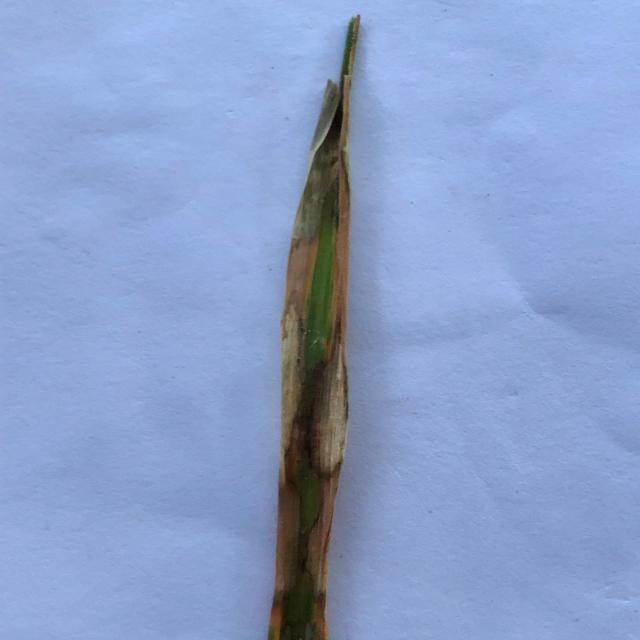Leaf Blight: (269, 80, 348, 640)
